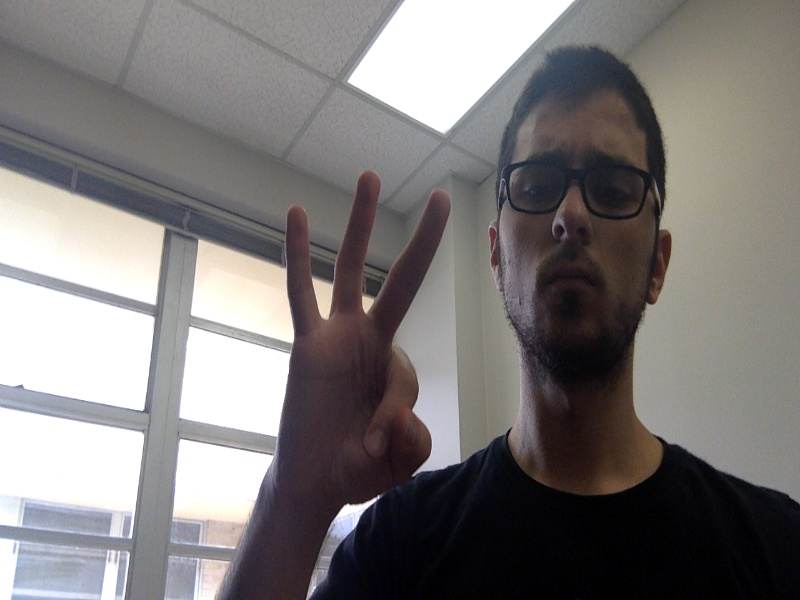3-hand: (284, 173, 451, 496)
